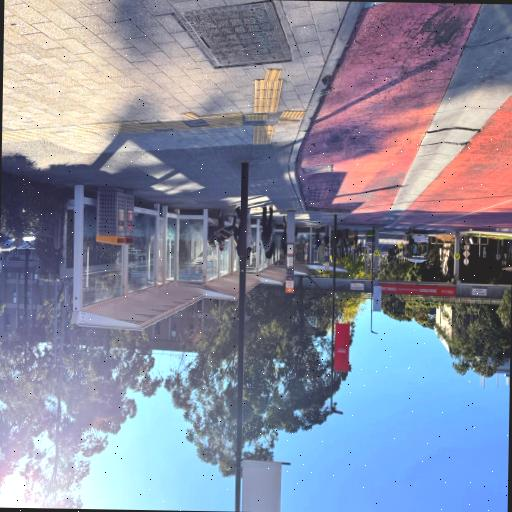Obstruction: (235, 155, 251, 507), (330, 215, 337, 404)
clear_path: (8, 0, 286, 216)
kerb_cut: (280, 4, 362, 144)
platform_edge: (285, 175, 307, 214)
signage: (284, 211, 297, 294)
tgsi: (3, 67, 292, 148), (279, 109, 306, 123)
